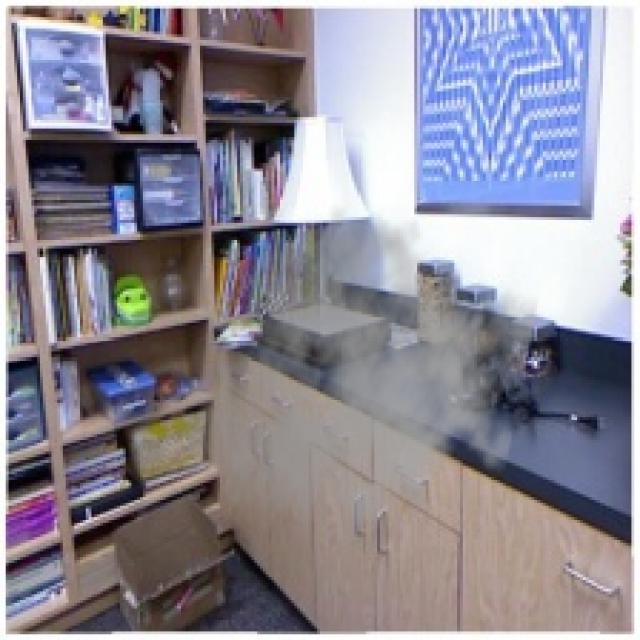smoke: (189, 200, 540, 569)
